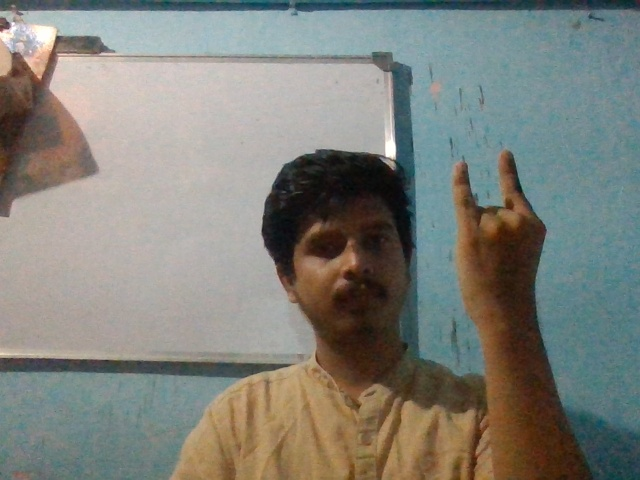Apana: (444, 143, 556, 311)
